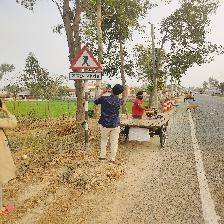Market-in-front: (67, 43, 103, 87)
